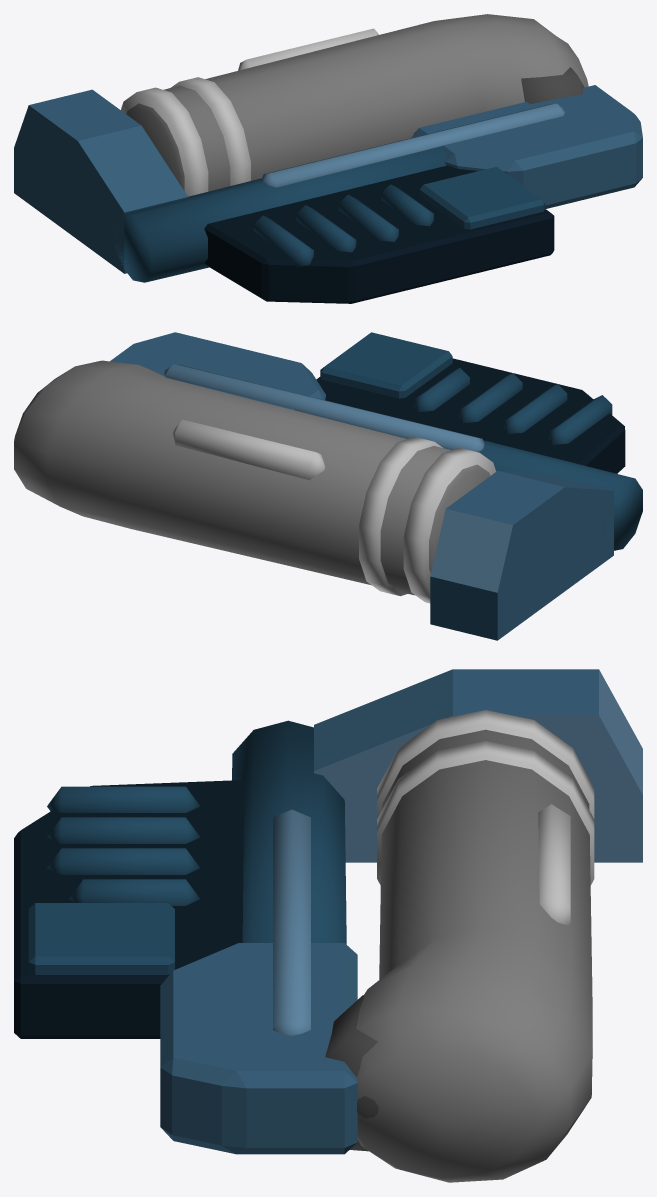
The model's file is newshc-243.glb.
The picture shows the model from 3 angles, top to bottom: view 1: azimuth 30°, elevation 25°; view 2: azimuth 150°, elevation 25°; view 3: azimuth 270°, elevation 25°; orthographic projection. The views are drawn at different scales.
Parts seen in each view (by area): view 1: newshc-243; view 2: newshc-243; view 3: newshc-243.
Boxes of the visible parts, x1=… form: newshc-243: x1=14, y1=14, x2=642, y2=303; newshc-243: x1=14, y1=332, x2=642, y2=640; newshc-243: x1=14, y1=669, x2=642, y2=1182.
Size of the model in its own units: 1.95 by 0.515 by 1.43.
